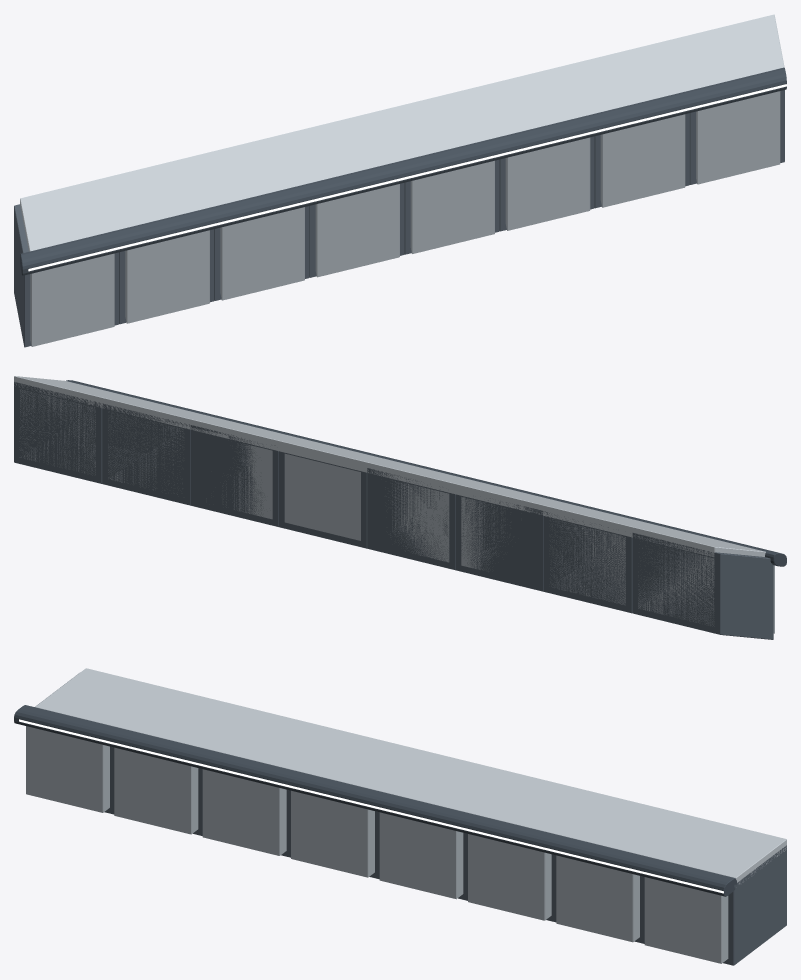
File: Terrain_TopRun8L.gltf
3 views of the same model, one above another, from view 1: azimuth 30°, elevation 25°; view 2: azimuth 150°, elevation 25°; view 3: azimuth 330°, elevation 25° (orthographic). The views are drawn at different scales.
Parts seen in each view (by area): view 1: Terrain_TopRun8L_baked; view 2: Terrain_TopRun8L_baked; view 3: Terrain_TopRun8L_baked.
Part boxes in pixels (x1,y1,x2,y2): Terrain_TopRun8L_baked: (14, 14, 786, 347); Terrain_TopRun8L_baked: (14, 376, 786, 639); Terrain_TopRun8L_baked: (14, 668, 786, 965).
Bounding box in the file's own units: 8.33 × 1.18 × 0.74.
